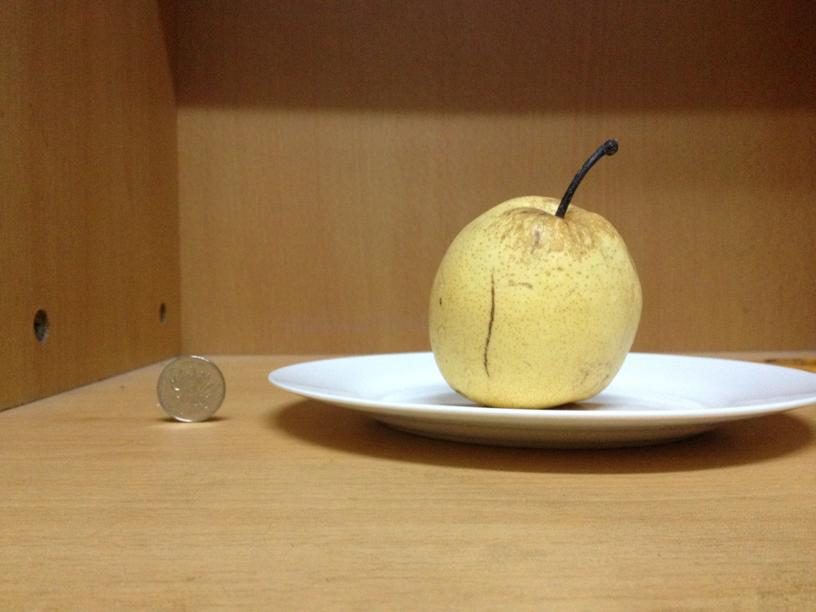coin: (158, 356, 227, 422)
pear: (432, 188, 641, 407)
